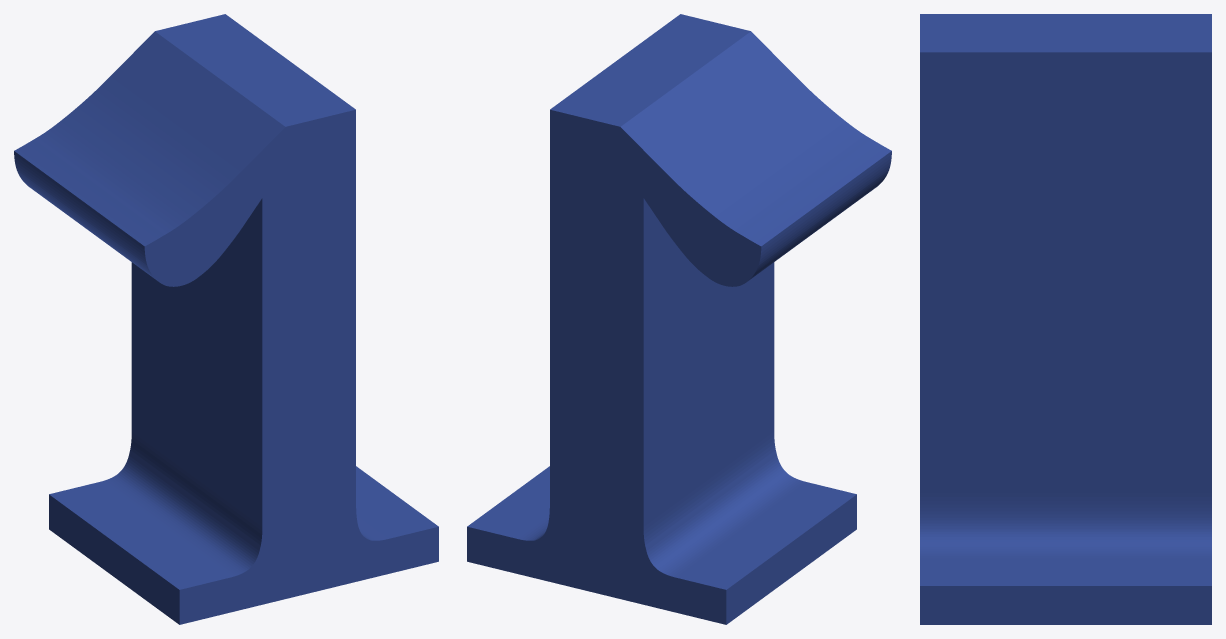
Rendered from tinker.obj.
The picture shows the model from 3 angles, left to right: view 1: azimuth 30°, elevation 25°; view 2: azimuth 150°, elevation 25°; view 3: azimuth 270°, elevation 25°; orthographic projection. The views are drawn at different scales.
Parts seen in each view (by area): view 1: obj_0; view 2: obj_0; view 3: obj_0.
Part boxes in pixels (<box>): obj_0: <box>14,14,438,624</box>; obj_0: <box>467,14,891,624</box>; obj_0: <box>920,14,1211,624</box>.
Bounding box in the file's own units: 72.72 × 112 × 55.94.
